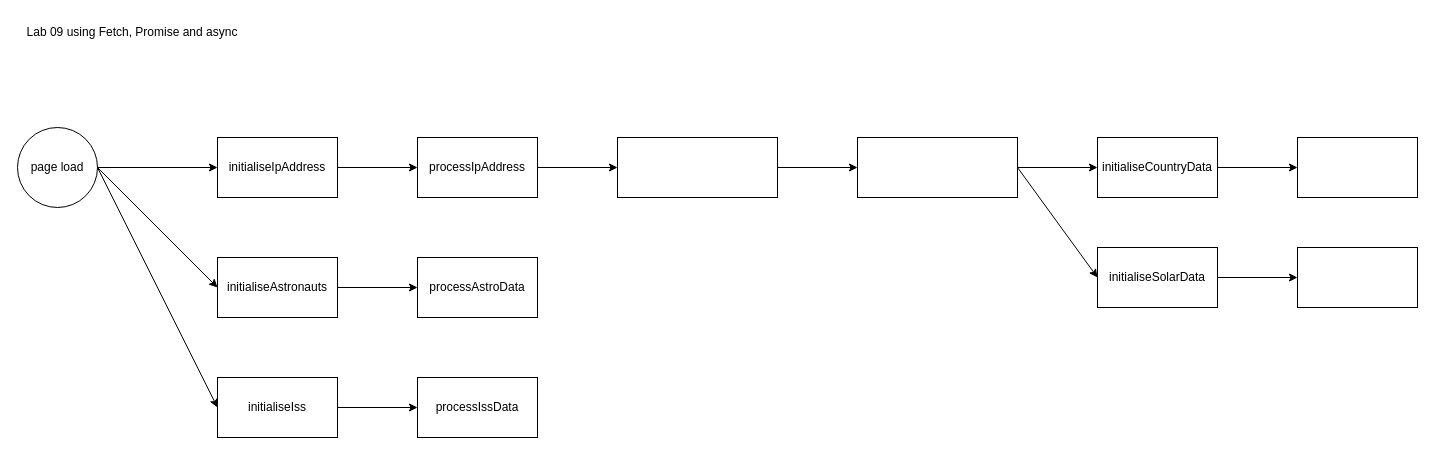
Image size: 1435x455. Some labels were removed from this diagram. The centre of each missing label's shape, as x and y in pixels:
"initialiseGeolocationData" goes at point (697, 167).
"processCountryData" goes at point (1357, 167).
"processGeoLocationData" goes at point (937, 167).
"processSolarData" goes at point (1357, 277).
